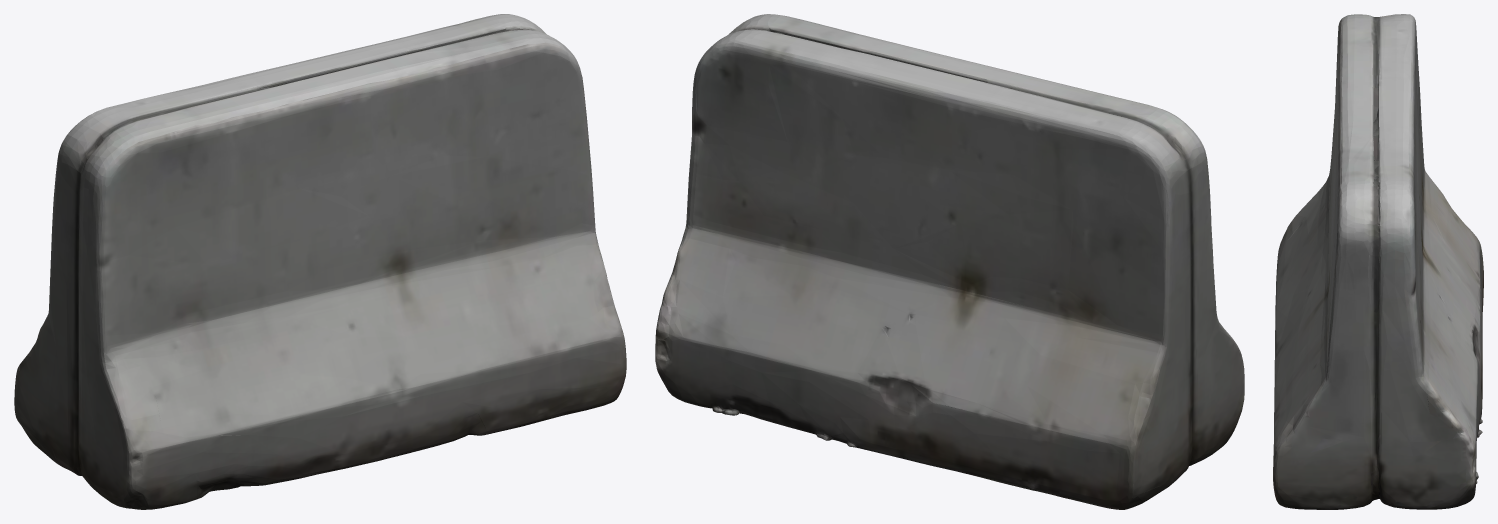
Rendered from roadblock.glb.
3 views of the same model, side by side, from view 1: azimuth 30°, elevation 25°; view 2: azimuth 150°, elevation 25°; view 3: azimuth 270°, elevation 25° (orthographic). The views are drawn at different scales.
Parts seen in each view (by area): view 1: geometry_0; view 2: geometry_0; view 3: geometry_0.
Part boxes in pixels (x1,y1,x2,y2): geometry_0: (14, 14, 626, 509); geometry_0: (655, 14, 1244, 509); geometry_0: (1273, 14, 1483, 509).
Size of the model in its own units: 0.9949 by 0.6708 by 0.4193.
Materials: 1 (1 with a texture image).
